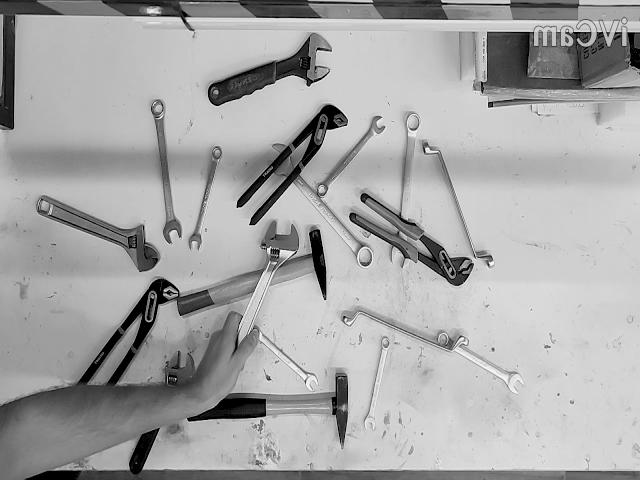Adjustable spanner: (36, 195, 160, 271), (208, 33, 332, 105), (130, 350, 195, 474), (238, 220, 299, 344)
Gas wrench: (236, 105, 348, 224), (350, 193, 474, 286), (76, 276, 179, 386)
Hammer: (178, 228, 328, 317), (187, 372, 349, 446)
Hand: (0, 312, 258, 478)
Wrench: (266, 142, 374, 268), (422, 140, 495, 268), (316, 115, 385, 197), (341, 310, 469, 353), (437, 331, 524, 392), (390, 112, 420, 270), (151, 100, 182, 243), (251, 327, 318, 392), (189, 147, 222, 249), (364, 337, 390, 430)
